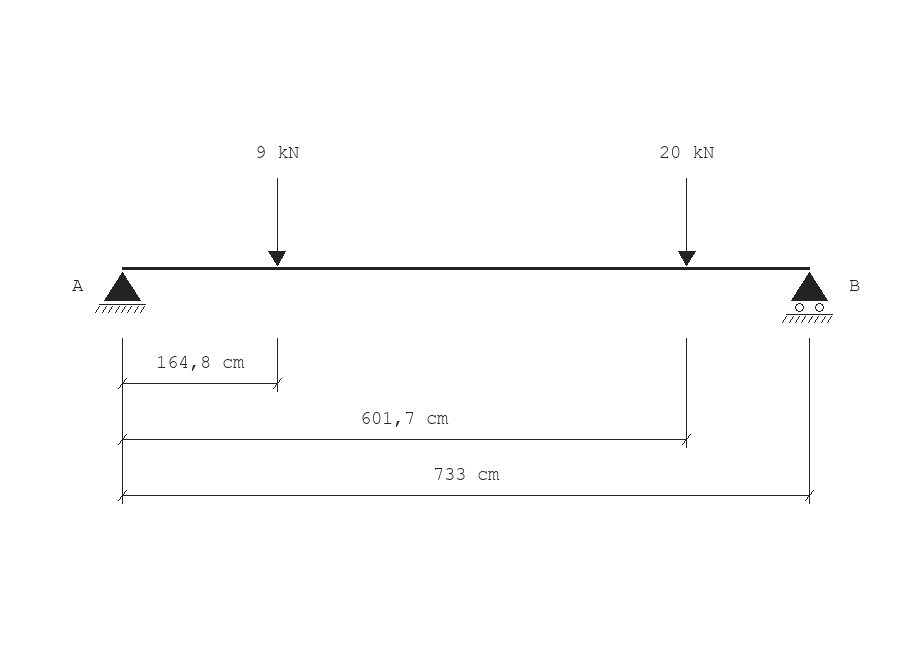pin_support: (95, 272, 146, 313)
point_load: (268, 178, 286, 266), (678, 178, 696, 266)
roller_support: (782, 272, 833, 323)
